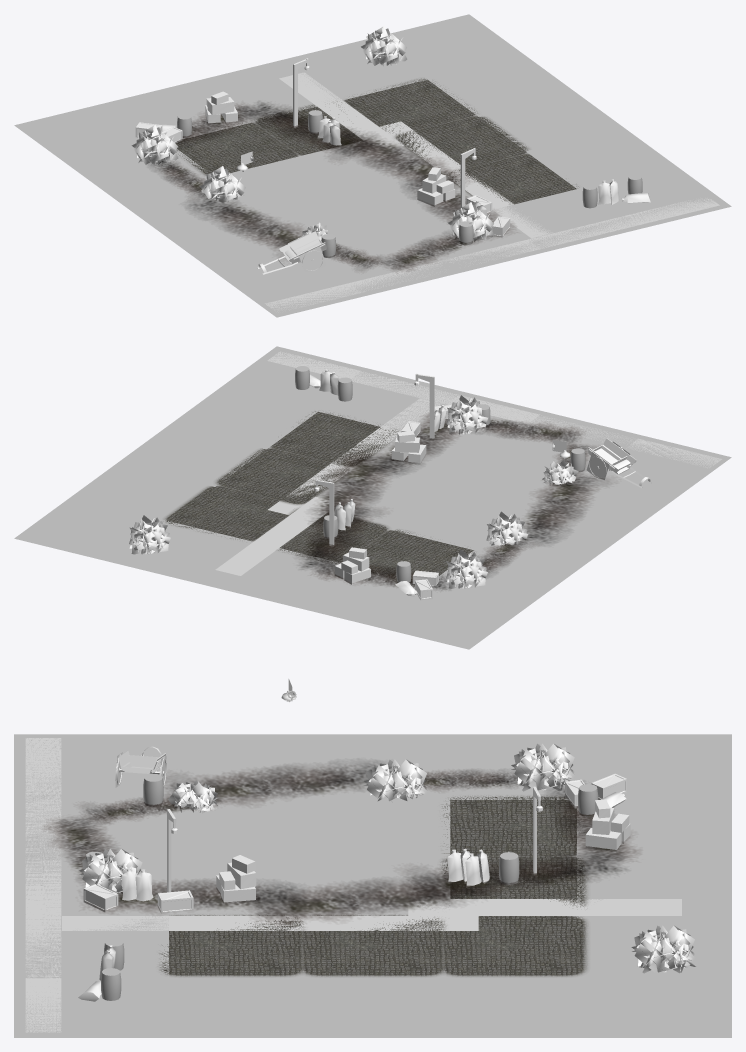
The model's file is propsonly_malt5-single.gltf.
3 renders of one model, top to bottom at view 1: azimuth 30°, elevation 25°; view 2: azimuth 150°, elevation 25°; view 3: azimuth 270°, elevation 25°, orthographic. The views are drawn at different scales.
Visible parts, largest first — view 1: file_b2_ground1.124, file_b2_ground1.121, file_b12_ground.012, file_b2_ground1.123, file_b12_ground.008, file_b2_ground1.114, FeedbackBlocker.001, file_b2_ground1.120, file_b12_ground.010, file_b2_ground1.115, file_b2_ground1.116, file_b2_ground1.126 (+31 smaller); view 2: file_b2_ground1.121, file_b2_ground1.123, file_b2_ground1.124, file_b12_ground.012, file_b2_ground1.117, file_b2_ground1.120, FeedbackBlocker.001, file_b1_ground.008, file_industrial.007, file_b12_ground.008, file_b2_ground1.122, file_b2_ground1.116 (+33 smaller); view 3: FeedbackBlocker.001, file_b2_ground1.115, file_b2_ground1.121, file_b2_ground1.124, file_b2_ground1.123, file_b2_ground1.114, file_b12_ground.012, file_industrial.006, file_b2_ground1.117, file_b2_ground1.017, file_b12_ground.008, file_b2_ground1.122 (+39 smaller).
Boxes of the visible parts, x1=… form: file_b2_ground1.124: x1=423, y1=52, x2=576, y2=117; file_b2_ground1.121: x1=526, y1=127, x2=674, y2=188; file_b12_ground.012: x1=391, y1=14, x2=524, y2=79; file_b2_ground1.123: x1=476, y1=90, x2=626, y2=150; file_b12_ground.008: x1=14, y1=102, x2=138, y2=166; file_b2_ground1.114: x1=324, y1=232, x2=459, y2=295; FeedbackBlocker.001: x1=265, y1=198, x2=719, y2=312; file_b2_ground1.120: x1=491, y1=189, x2=642, y2=251; file_b12_ground.010: x1=220, y1=258, x2=371, y2=317; file_b2_ground1.115: x1=229, y1=155, x2=350, y2=220; file_b2_ground1.116: x1=117, y1=179, x2=257, y2=241; file_b2_ground1.126: x1=283, y1=39, x2=432, y2=100; file_b2_ground1.121: x1=169, y1=384, x2=322, y2=449; file_b2_ground1.123: x1=122, y1=422, x2=265, y2=486; file_b2_ground1.124: x1=71, y1=459, x2=211, y2=524; file_b12_ground.012: x1=14, y1=497, x2=141, y2=562; file_b2_ground1.117: x1=539, y1=475, x2=674, y2=536; file_b2_ground1.120: x1=310, y1=368, x2=463, y2=431; FeedbackBlocker.001: x1=267, y1=351, x2=721, y2=468; file_b1_ground.008: x1=436, y1=449, x2=563, y2=512; file_industrial.007: x1=215, y1=447, x2=350, y2=504; file_b12_ground.008: x1=380, y1=590, x2=519, y2=649; file_b2_ground1.122: x1=282, y1=565, x2=419, y2=627; file_b2_ground1.116: x1=483, y1=509, x2=623, y2=573; FeedbackBlocker.001: x1=25, y1=738, x2=61, y2=1032; file_b2_ground1.115: x1=295, y1=794, x2=450, y2=859; file_b2_ground1.121: x1=154, y1=972, x2=309, y2=1037; file_b2_ground1.124: x1=436, y1=972, x2=591, y2=1037; file_b2_ground1.123: x1=295, y1=972, x2=450, y2=1037; file_b2_ground1.114: x1=14, y1=794, x2=168, y2=859; file_b12_ground.012: x1=578, y1=972, x2=731, y2=1037; file_industrial.006: x1=439, y1=916, x2=587, y2=976; file_b2_ground1.117: x1=154, y1=734, x2=309, y2=799; file_b2_ground1.017: x1=296, y1=853, x2=450, y2=918; file_b12_ground.008: x1=577, y1=734, x2=731, y2=799; file_b2_ground1.122: x1=577, y1=794, x2=731, y2=859.
Size of what is drawn, in the model's own units: 5.1 by 0.9485 by 5.1.
